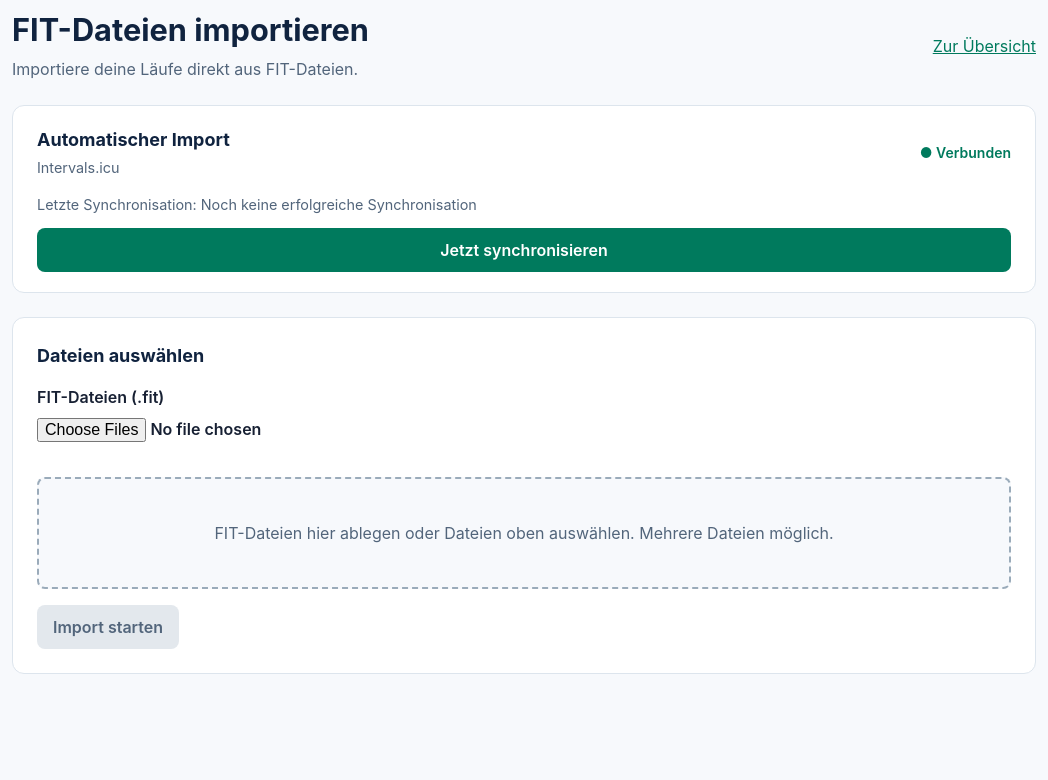
Scenario: ImportView › shows sync totals and makes a manual sync request
Step 1. Click the button with test id "intervals-sync" → [524, 250], box 37,228 -> 1011,272
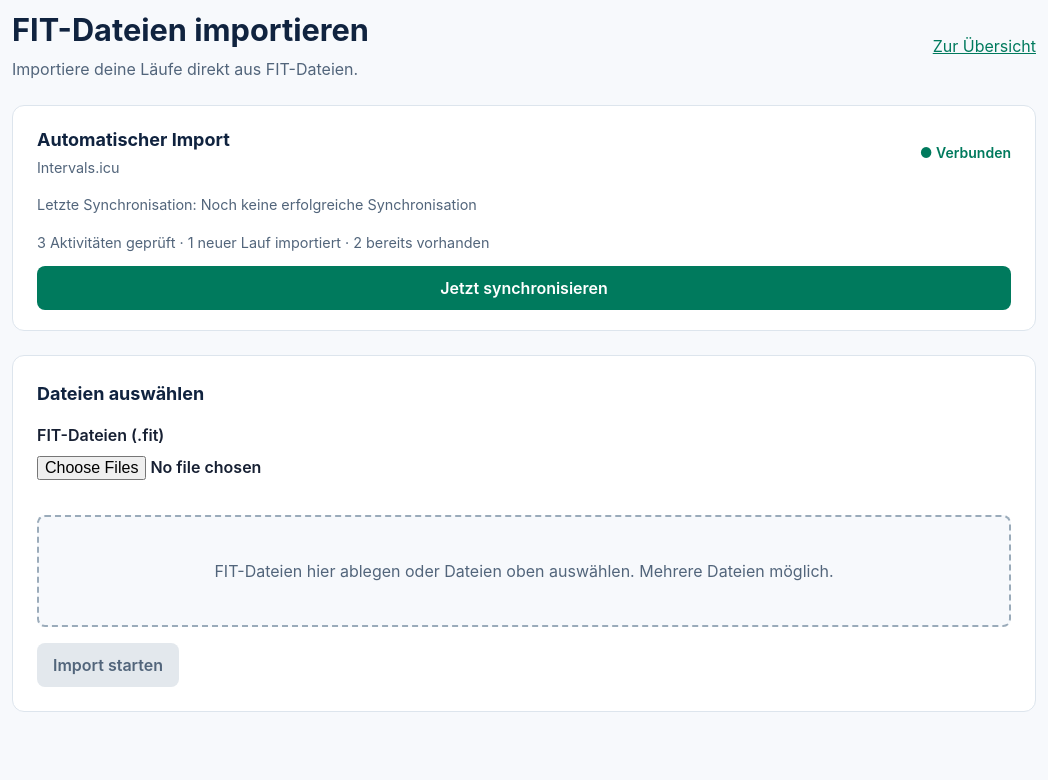
Now the element with test id "intervals-result" shows "3 Aktivitäten geprüft", box 37,234 -> 489,251
Now the element with test id "intervals-result" shows "1 neuer Lauf importiert", box 37,234 -> 489,251
Now the element with test id "intervals-result" shows "2 bereits vorhanden", box 37,234 -> 489,251
